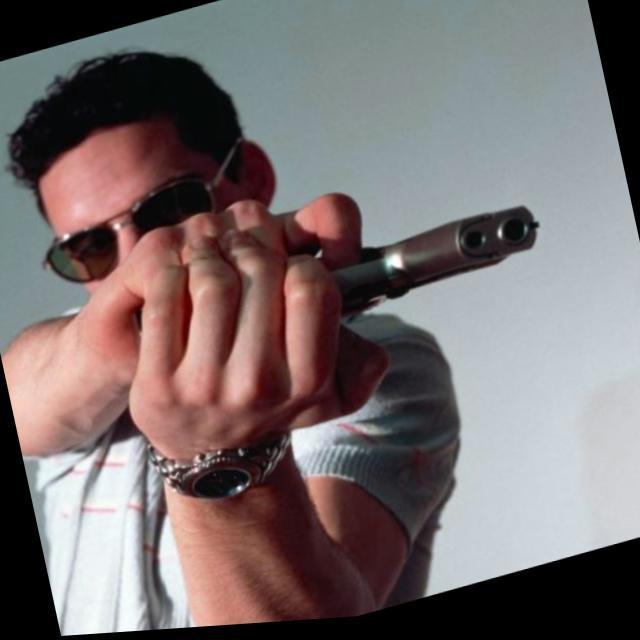weapon: (280, 191, 554, 338)
